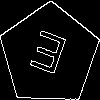E: (24, 29, 70, 84)
